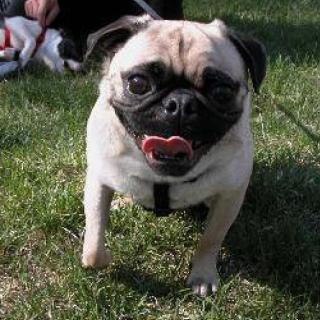dog: (86, 15, 276, 174)
nose: (164, 87, 207, 126)
